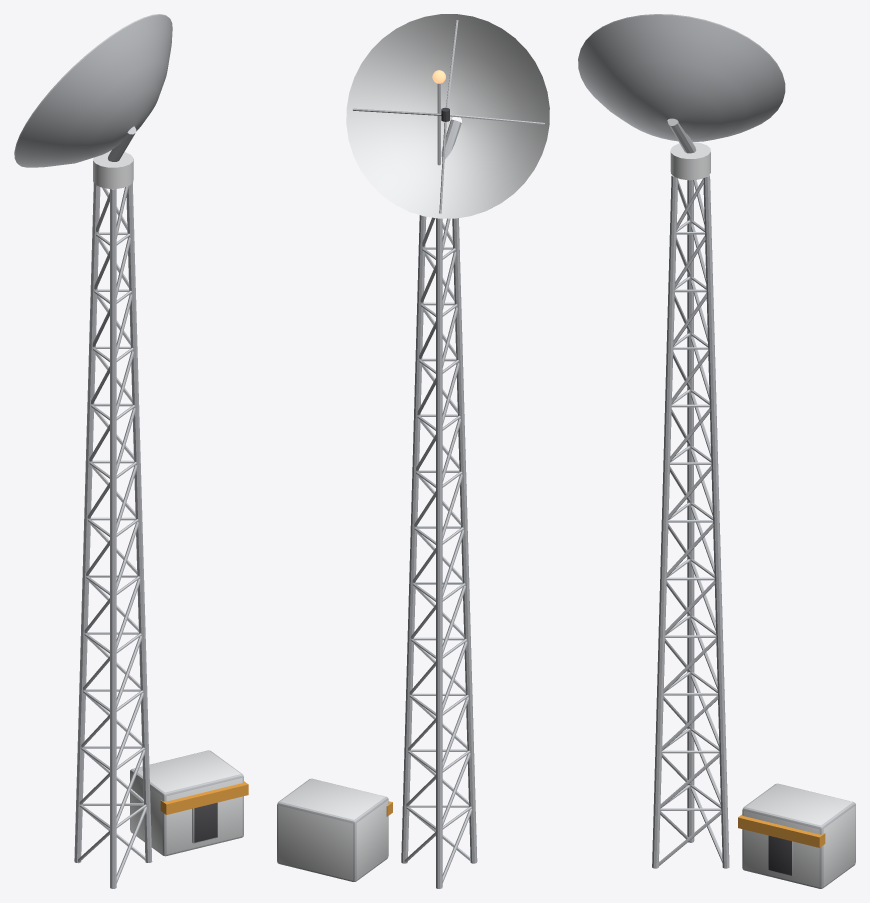
Rendered from CommsTower.fbx.
3 renders of one model, left to right at view 1: azimuth 30°, elevation 25°; view 2: azimuth 150°, elevation 25°; view 3: azimuth 330°, elevation 25°, orthographic. The views are drawn at different scales.
Parts seen in each view (by area): view 1: CommsTower; view 2: CommsTower; view 3: CommsTower.
Boxes of the visible parts, x1,y1,x2,y2 form: CommsTower: [14, 14, 248, 888]; CommsTower: [277, 14, 549, 888]; CommsTower: [578, 14, 855, 888].
Bounding box in the file's own units: 4.62 × 16.27 × 2.2.
